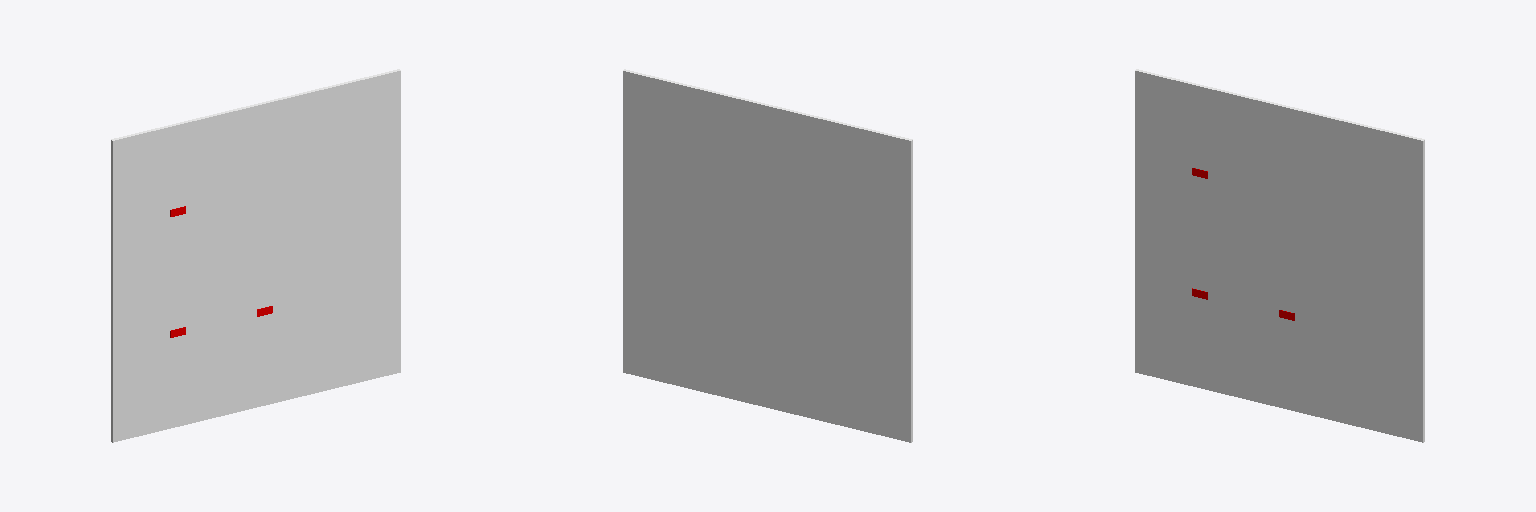
File: UnloadingArea_Model.obj
3 views of the same model, side by side, from view 1: azimuth 30°, elevation 25°; view 2: azimuth 150°, elevation 25°; view 3: azimuth 330°, elevation 25° (orthographic).
Bounding box in the file's own units: 400 × 400 × 5.5.